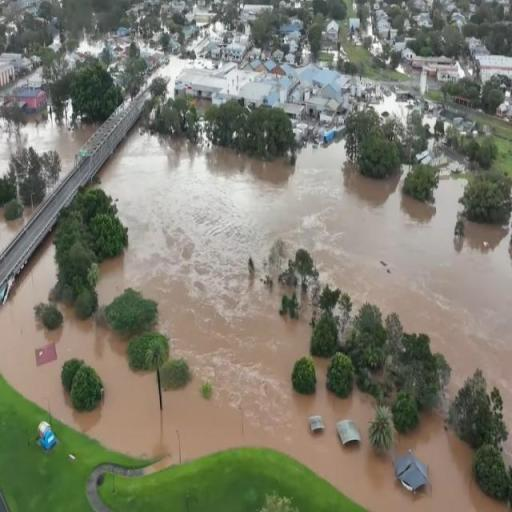flood: (97, 126, 512, 512), (0, 237, 161, 457), (0, 118, 95, 174), (152, 56, 221, 96), (0, 206, 39, 255), (369, 92, 414, 124), (78, 38, 105, 56), (422, 112, 436, 134)
house: (175, 68, 228, 102), (472, 50, 512, 85), (16, 84, 48, 112), (0, 51, 21, 89), (320, 80, 343, 100), (224, 44, 246, 64), (271, 62, 292, 78), (437, 66, 458, 82), (322, 19, 339, 36), (254, 61, 272, 73), (402, 48, 417, 62), (241, 62, 256, 72)
